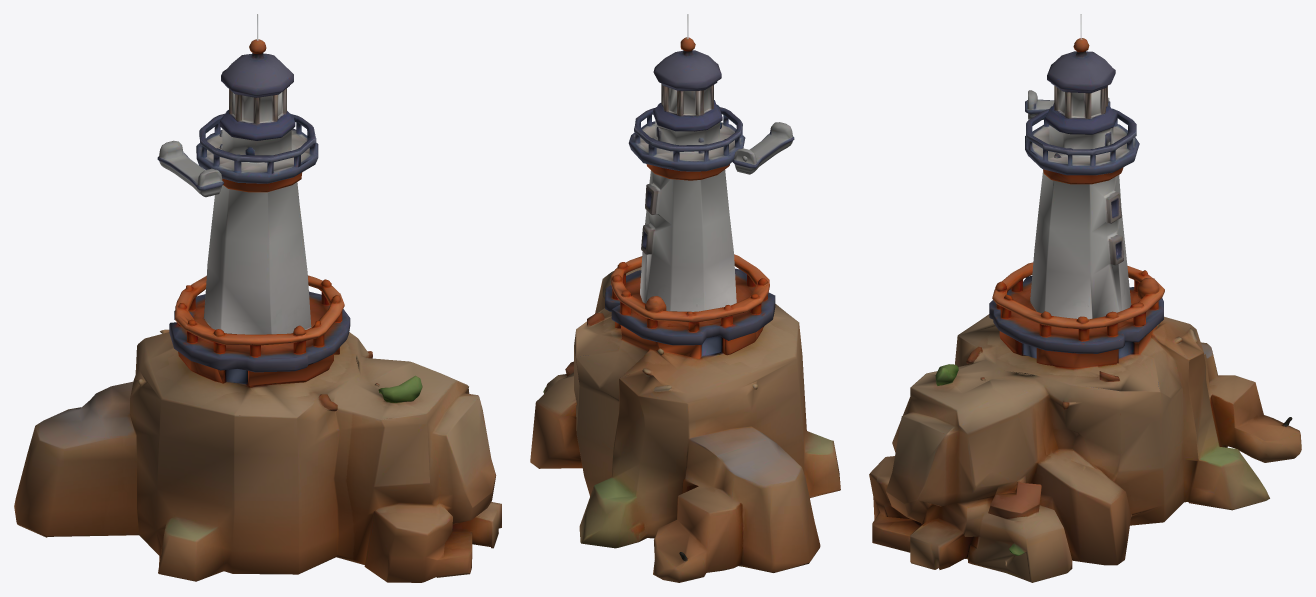
3 renders of one model, left to right at view 1: azimuth 30°, elevation 25°; view 2: azimuth 150°, elevation 25°; view 3: azimuth 270°, elevation 25°, orthographic. The views are drawn at different scales.
Parts seen in each view (by area): view 1: tripo_node_a67600ca-9657-426a-aa08-0d7044352409; view 2: tripo_node_a67600ca-9657-426a-aa08-0d7044352409; view 3: tripo_node_a67600ca-9657-426a-aa08-0d7044352409.
Part boxes in pixels (left/top/right/bottom): tripo_node_a67600ca-9657-426a-aa08-0d7044352409: left=14, top=14, right=501, bottom=582; tripo_node_a67600ca-9657-426a-aa08-0d7044352409: left=530, top=14, right=840, bottom=582; tripo_node_a67600ca-9657-426a-aa08-0d7044352409: left=869, top=14, right=1301, bottom=582.
Size of the model in its own units: 0.2724 by 0.35 by 0.2849.
Materials: 1 (1 with a texture image).
